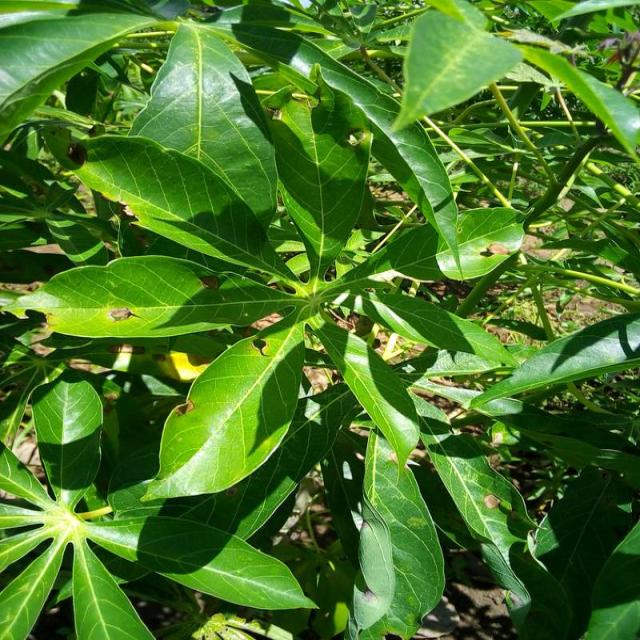cassava leaf: (2, 1, 638, 638), (127, 21, 280, 237), (141, 314, 307, 503), (392, 0, 525, 133), (31, 374, 105, 492)
